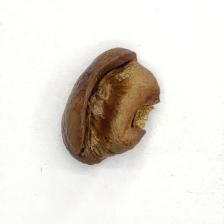NG: (80, 52, 159, 165)
